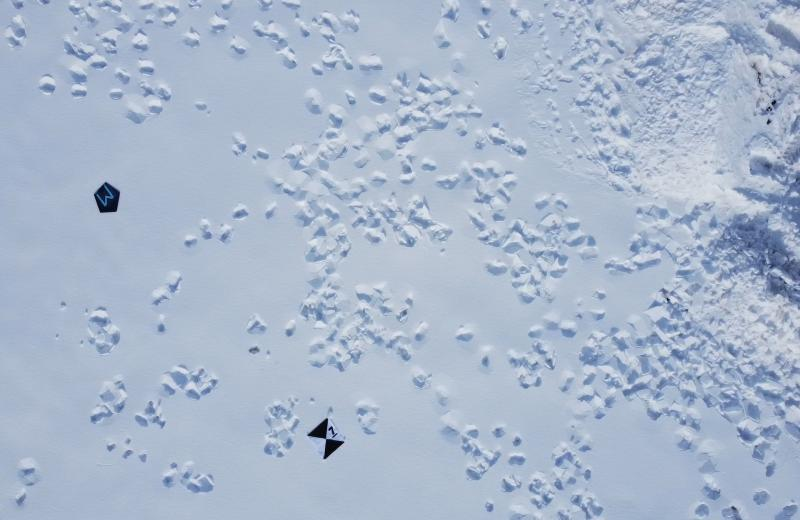Pentagon: (88, 176, 124, 220)
